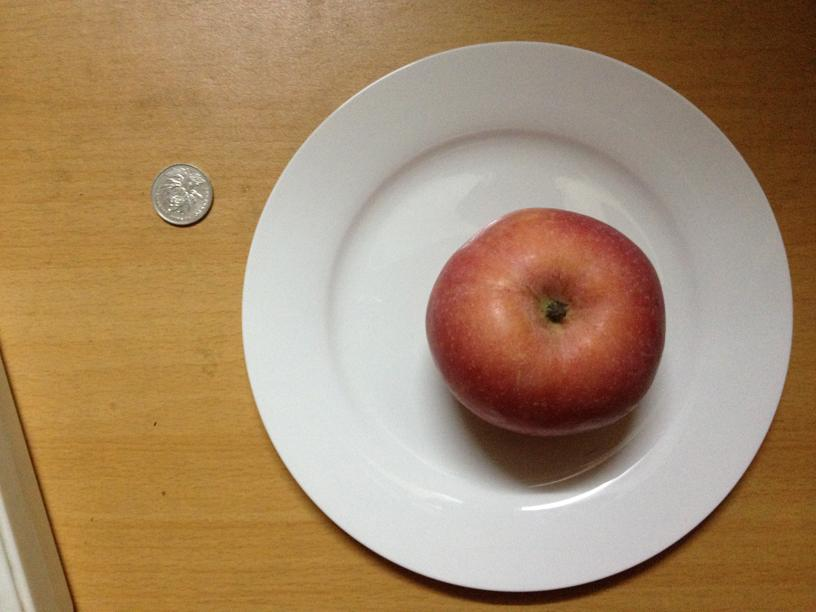apple: (422, 202, 664, 434)
coin: (151, 165, 214, 225)
